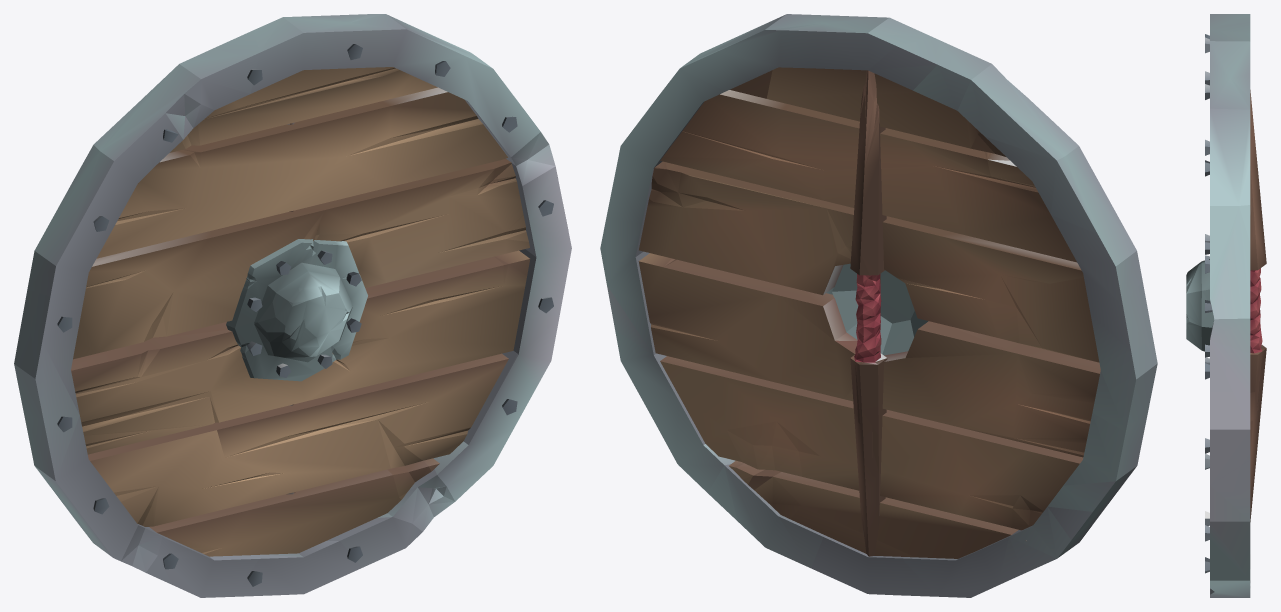
Rendered from basic_shield.fbx.
3 views of the same model, side by side, from view 1: azimuth 30°, elevation 25°; view 2: azimuth 150°, elevation 25°; view 3: azimuth 270°, elevation 25° (orthographic). The views are drawn at different scales.
Visible parts, largest first — view 1: basic_shield_mesh; view 2: basic_shield_mesh; view 3: basic_shield_mesh.
Part boxes in pixels (x1,y1,x2,y2): basic_shield_mesh: [14, 14, 571, 597]; basic_shield_mesh: [600, 14, 1157, 597]; basic_shield_mesh: [1186, 14, 1266, 597].
Bounding box in the file's own units: 1.43 × 1.43 × 0.1967.
